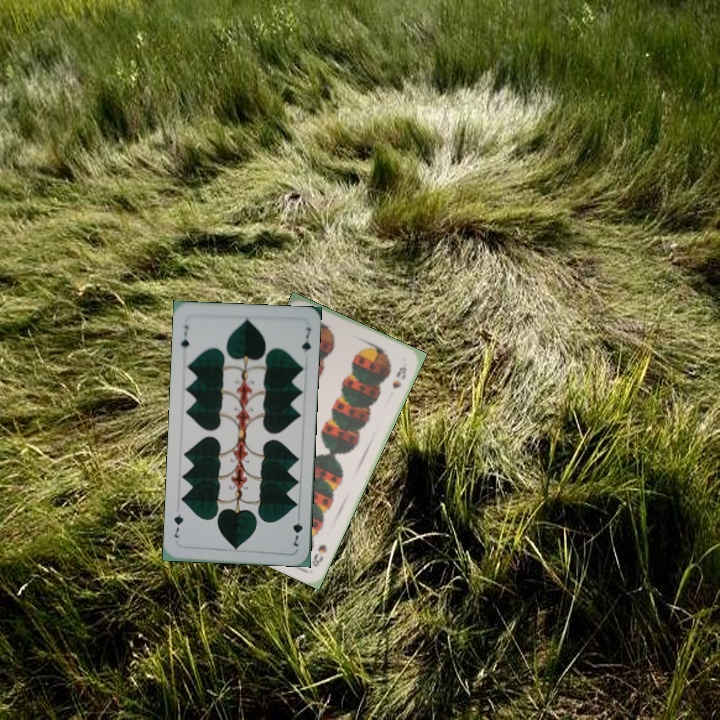G7: (289, 510, 305, 549), (176, 321, 192, 351)
S8: (308, 540, 329, 569)
